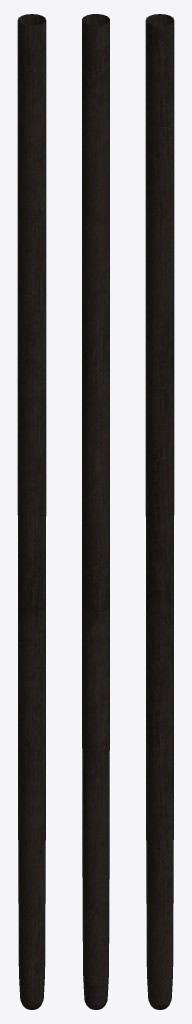
File: wm_isengard_1h_spear_a01_handle.fbx
3 views of the same model, side by side, from view 1: azimuth 90°, elevation 25°; view 2: azimuth 150°, elevation 25°; view 3: azimuth 270°, elevation 25° (orthographic).
Visible parts, largest first — view 1: wm_isengard_1h_spear_a01_handle; view 2: wm_isengard_1h_spear_a01_handle; view 3: wm_isengard_1h_spear_a01_handle.
Part boxes in pixels (box(x1,y1,x2,y2)): wm_isengard_1h_spear_a01_handle: box(17, 14, 46, 1009); wm_isengard_1h_spear_a01_handle: box(82, 14, 109, 1009); wm_isengard_1h_spear_a01_handle: box(145, 14, 174, 1009).
Size of the model in its own units: 0.0381 by 0.0381 by 1.46.
Materials: 1 (1 with a texture image).
